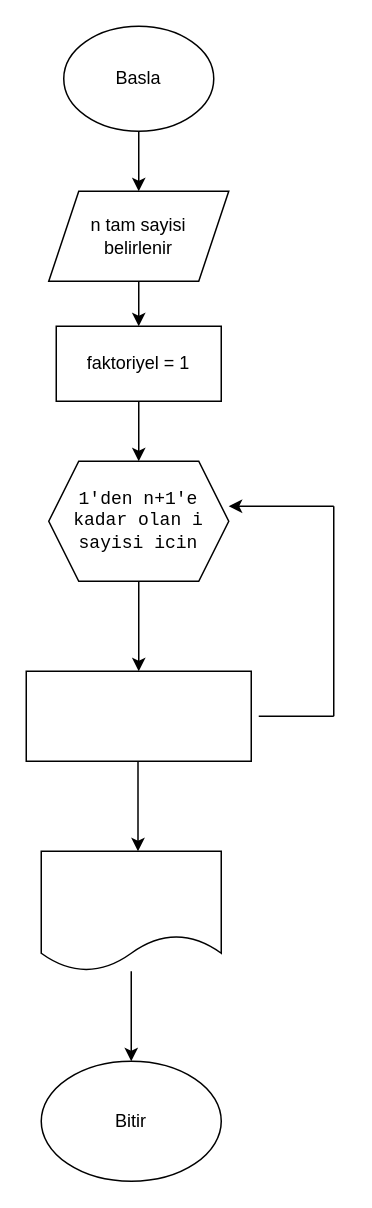
Some shapes in this 372 by 1208 pixel diagram are drawn without their labels. The box of each missing label's shape, as (x1, y1, x2, y2) in pixels:
faktoriyel: (40, 850, 221, 971)
faktoriyel = faktoriyel * i: (25, 670, 251, 761)
